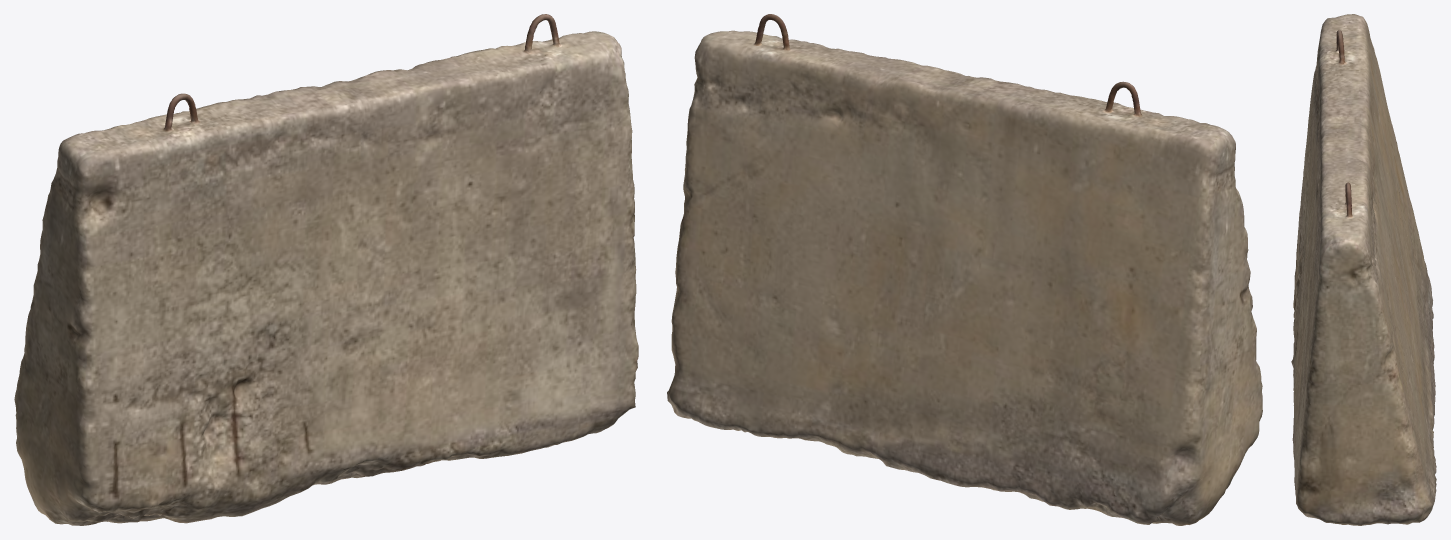
The model's file is concrete_barrier_02.glb.
3 views of the same model, side by side, from view 1: azimuth 30°, elevation 25°; view 2: azimuth 150°, elevation 25°; view 3: azimuth 270°, elevation 25° (orthographic). The views are drawn at different scales.
Parts seen in each view (by area): view 1: concrete_road_barrier_02; view 2: concrete_road_barrier_02; view 3: concrete_road_barrier_02.
Part boxes in pixels (left/top/right/bottom): concrete_road_barrier_02: left=14, top=14, right=638, bottom=525; concrete_road_barrier_02: left=667, top=14, right=1262, bottom=525; concrete_road_barrier_02: left=1291, top=14, right=1436, bottom=525.
Bounding box in the file's own units: 1.57 × 1.11 × 0.4421.
1 material, 1 textured.
